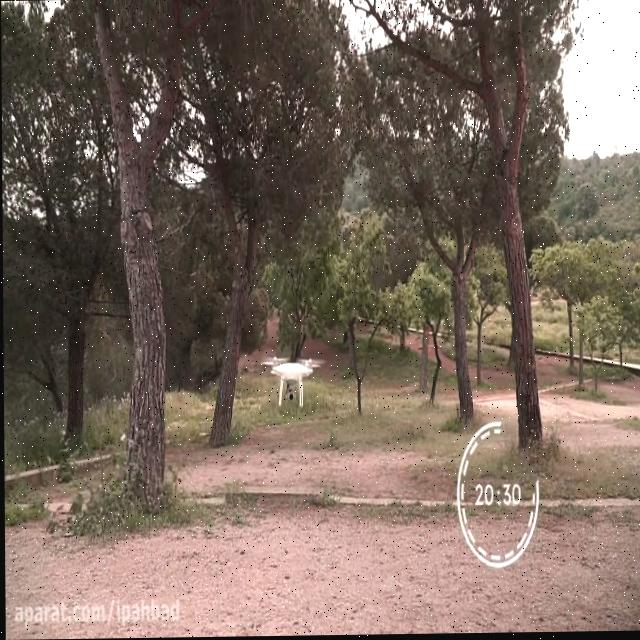drone: (257, 350, 328, 413)
